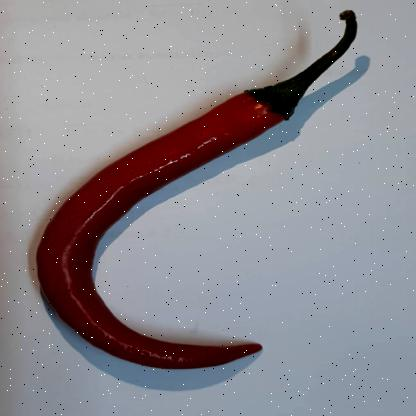chili: (30, 10, 360, 372)
